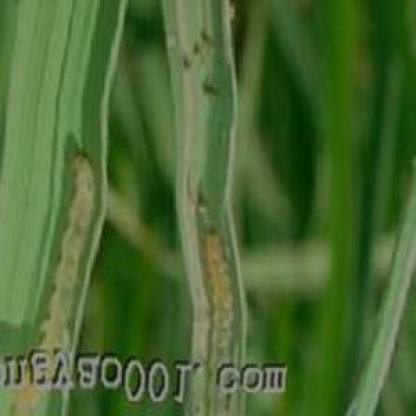leaf-folder: (175, 181, 265, 344), (41, 137, 112, 336)
